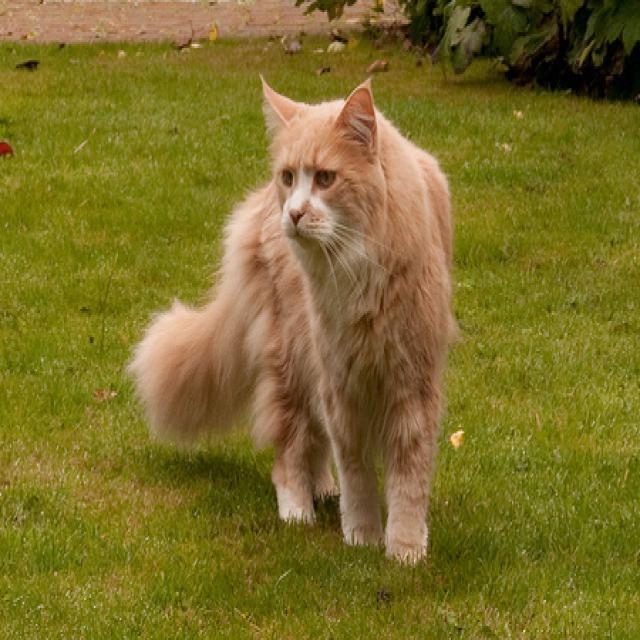Maine Coon: (133, 71, 453, 564)
